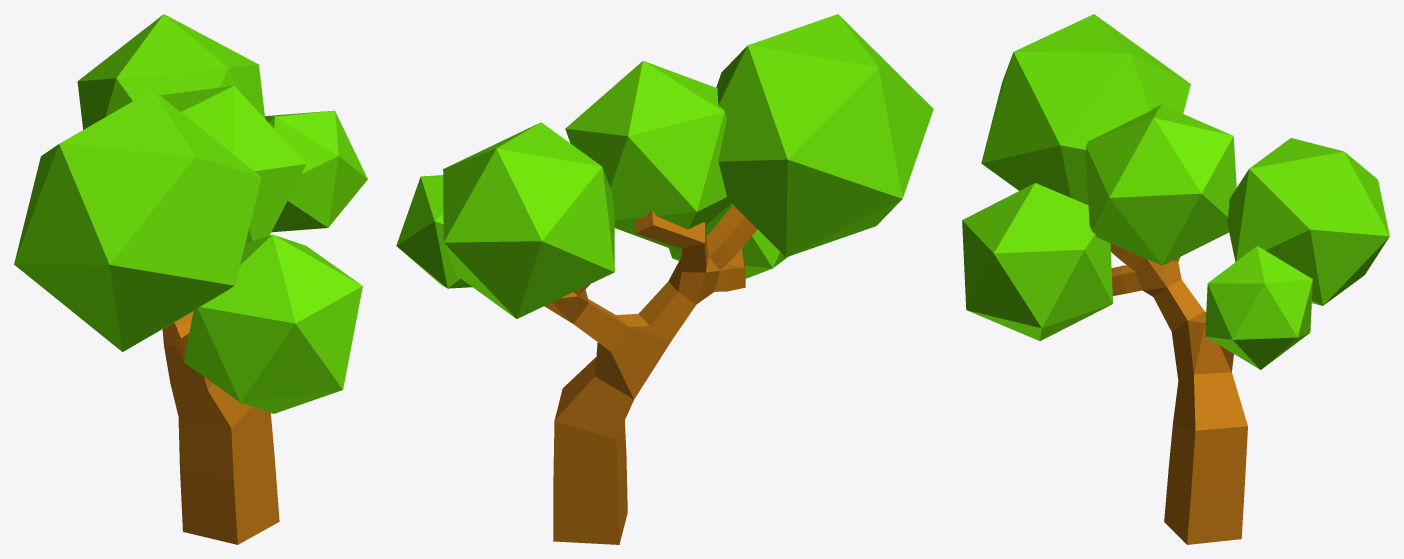
Rendered from Tree.glb.
The picture shows the model from 3 angles, left to right: view 1: azimuth 30°, elevation 25°; view 2: azimuth 150°, elevation 25°; view 3: azimuth 270°, elevation 25°; orthographic projection. The views are drawn at different scales.
Parts seen in each view (by area): view 1: Icosphere.003, Icosphere.004, Cube, Icosphere.001, Icosphere.005, Icosphere; view 2: Icosphere.003, Cube, Icosphere.001, Icosphere.005, Icosphere, Icosphere.004; view 3: Icosphere.003, Icosphere.005, Cube, Icosphere.004, Icosphere.001, Icosphere.
Boxes of the visible parts, x1=… form: Icosphere.003: x1=14, y1=90, x2=261, y2=351; Icosphere.004: x1=184, y1=234, x2=362, y2=413; Cube: x1=162, y1=312, x2=279, y2=544; Icosphere.001: x1=77, y1=14, x2=265, y2=129; Icosphere.005: x1=160, y1=86, x2=306, y2=243; Icosphere: x1=265, y1=110, x2=367, y2=232; Icosphere.003: x1=716, y1=14, x2=933, y2=257; Cube: x1=544, y1=205, x2=757, y2=544; Icosphere.001: x1=443, y1=122, x2=614, y2=318; Icosphere.005: x1=565, y1=61, x2=731, y2=250; Icosphere: x1=396, y1=175, x2=472, y2=288; Icosphere.004: x1=668, y1=203, x2=787, y2=278; Icosphere.003: x1=981, y1=14, x2=1190, y2=204; Icosphere.005: x1=1085, y1=104, x2=1236, y2=265; Cube: x1=1110, y1=243, x2=1247, y2=544; Icosphere.004: x1=962, y1=183, x2=1113, y2=340; Icosphere.001: x1=1227, y1=138, x2=1389, y2=305; Icosphere: x1=1205, y1=246, x2=1312, y2=369.
Size of the model in its own units: 1.93 by 2.17 by 1.96.
